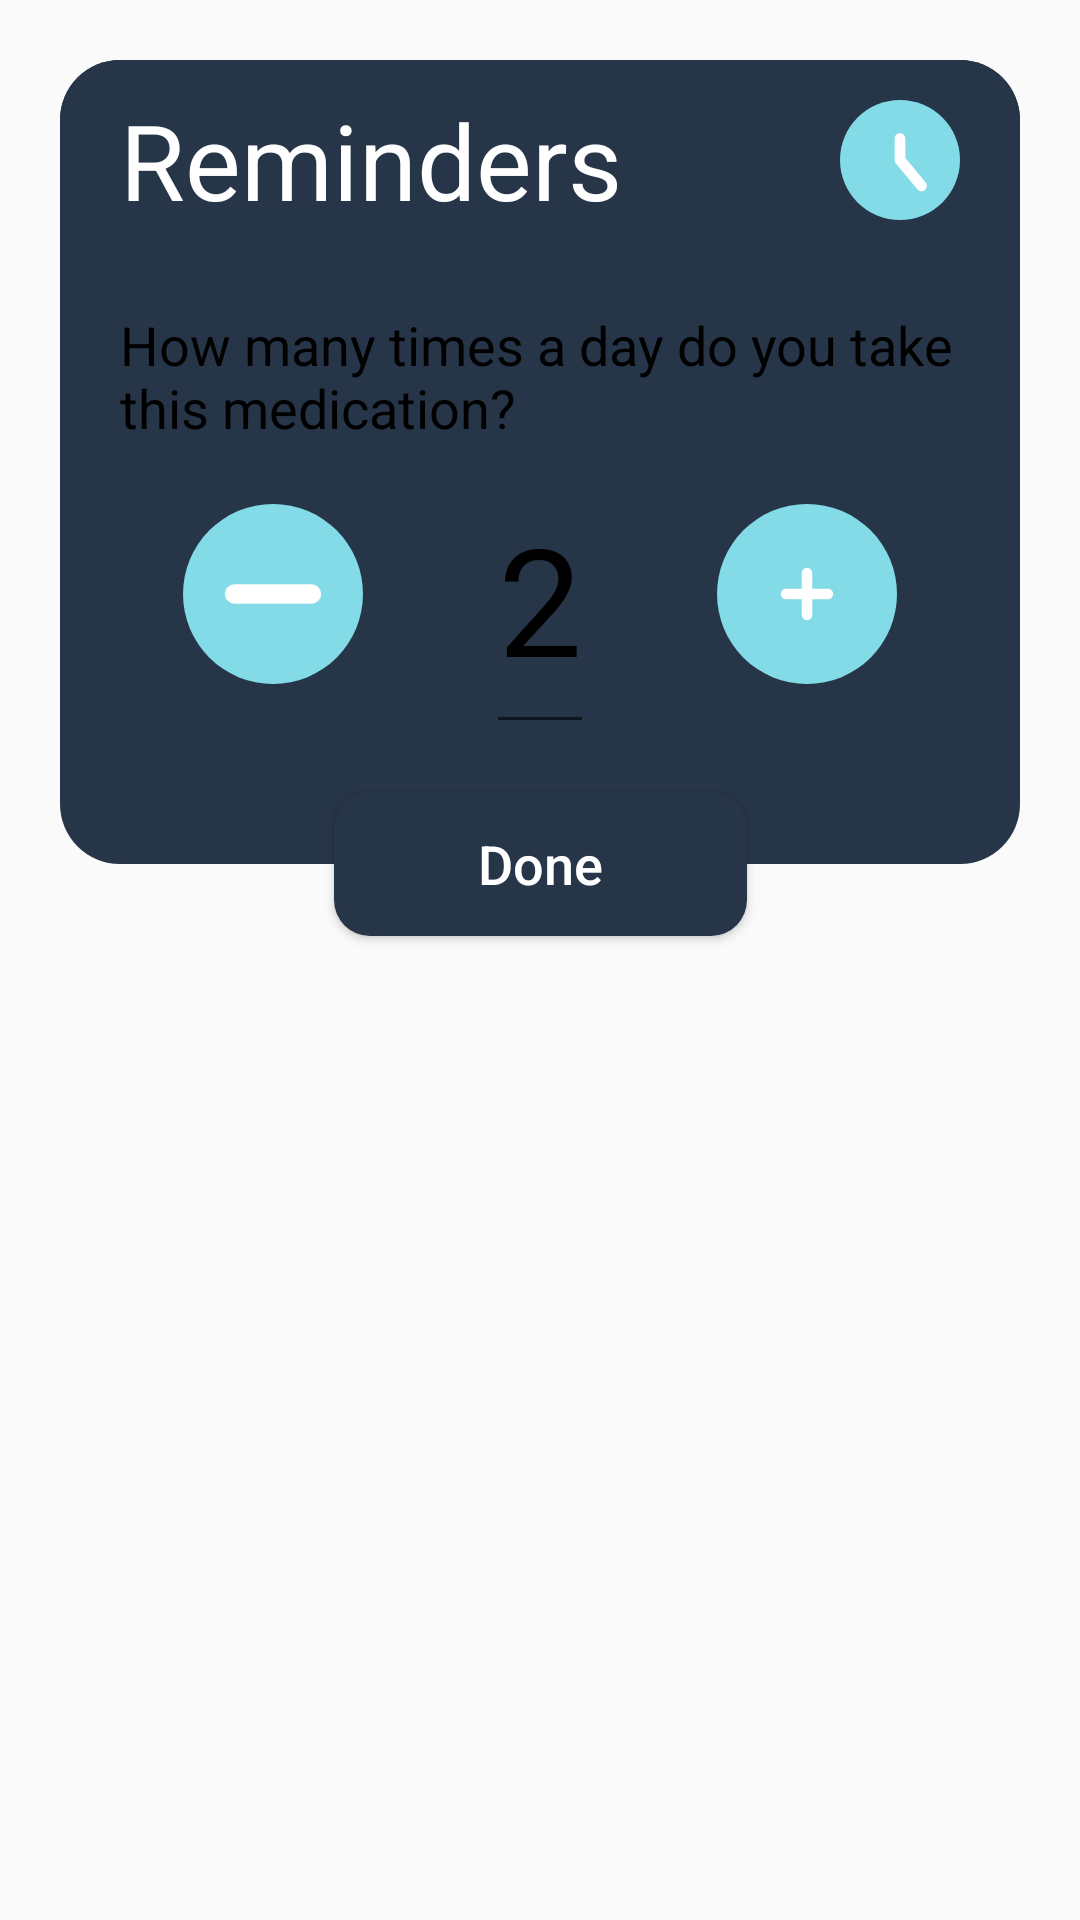

Screen size 1080 x 1920. Icon name, then its center in pixels as [x,y]:
Minus Button: [273,594]
